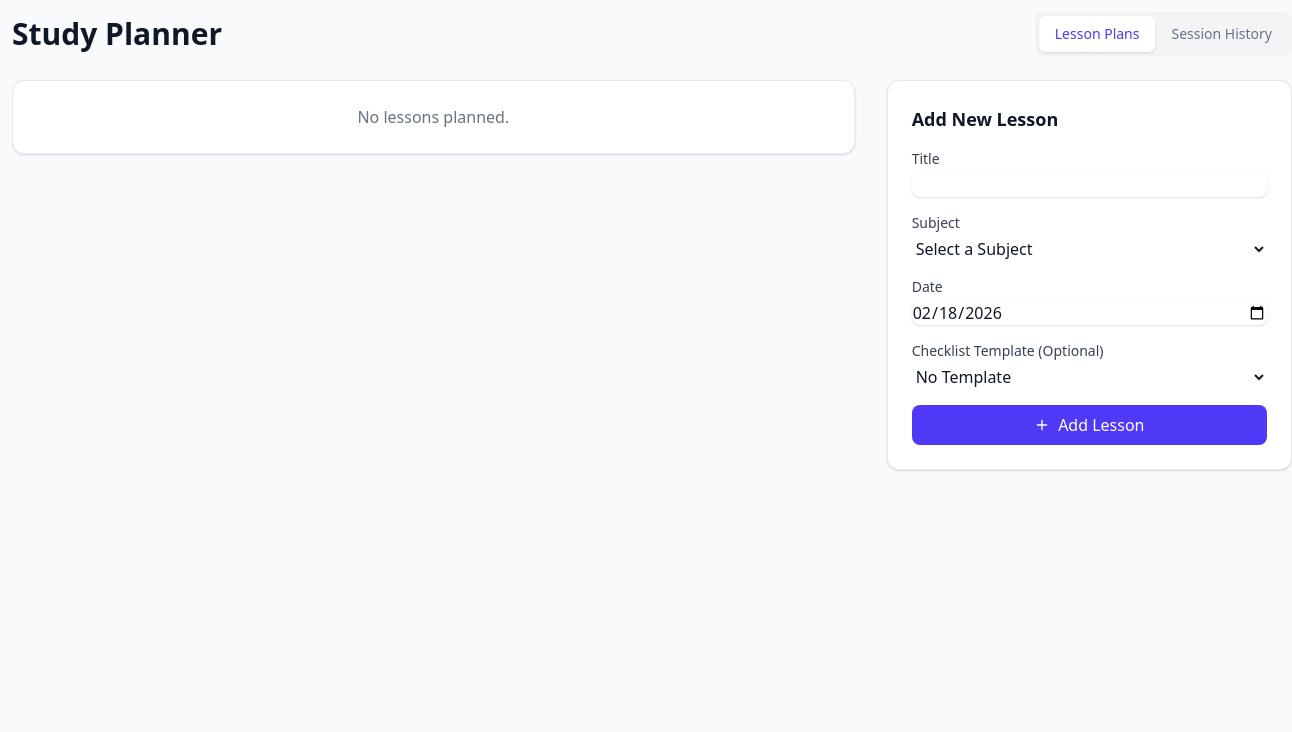
Test case: Planner › switches to sessions tab
Click the button "Session History" at [1222, 34], box [1156,16,1288,52]
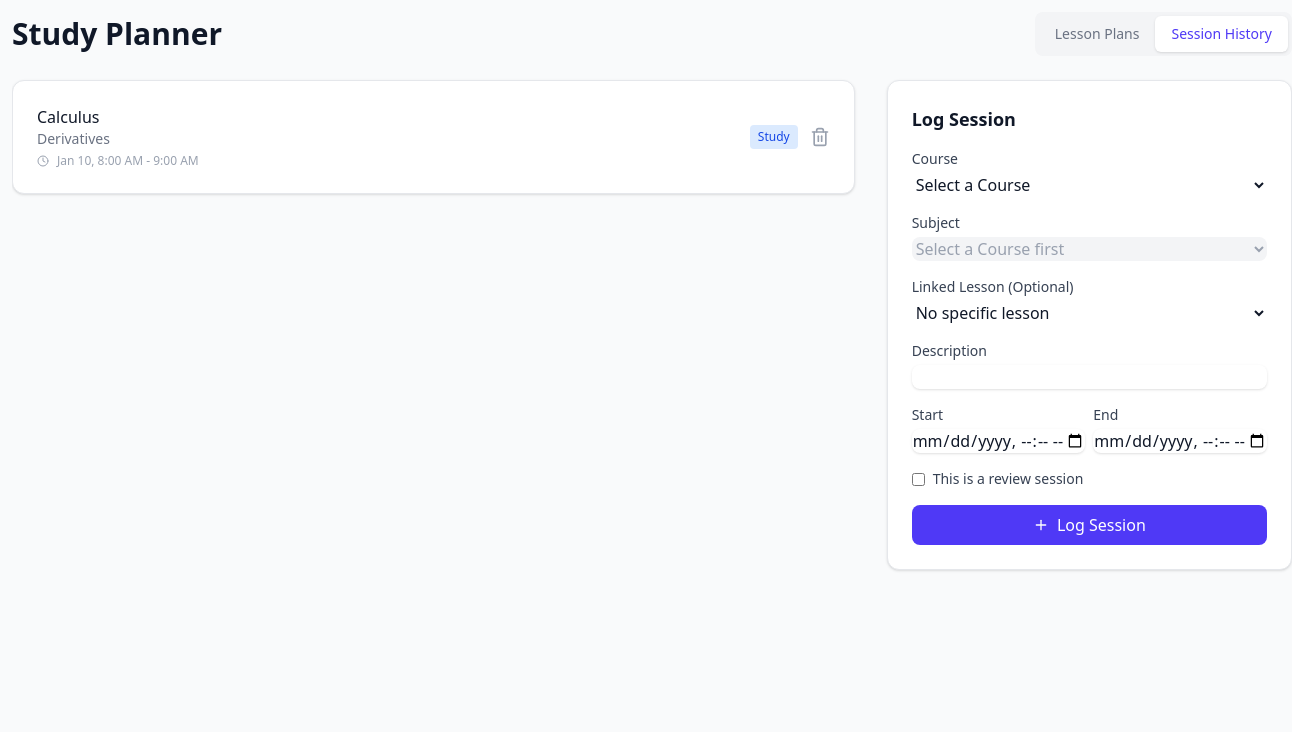
Expected: the text "Derivatives" is shown, [37,129,110,148]
